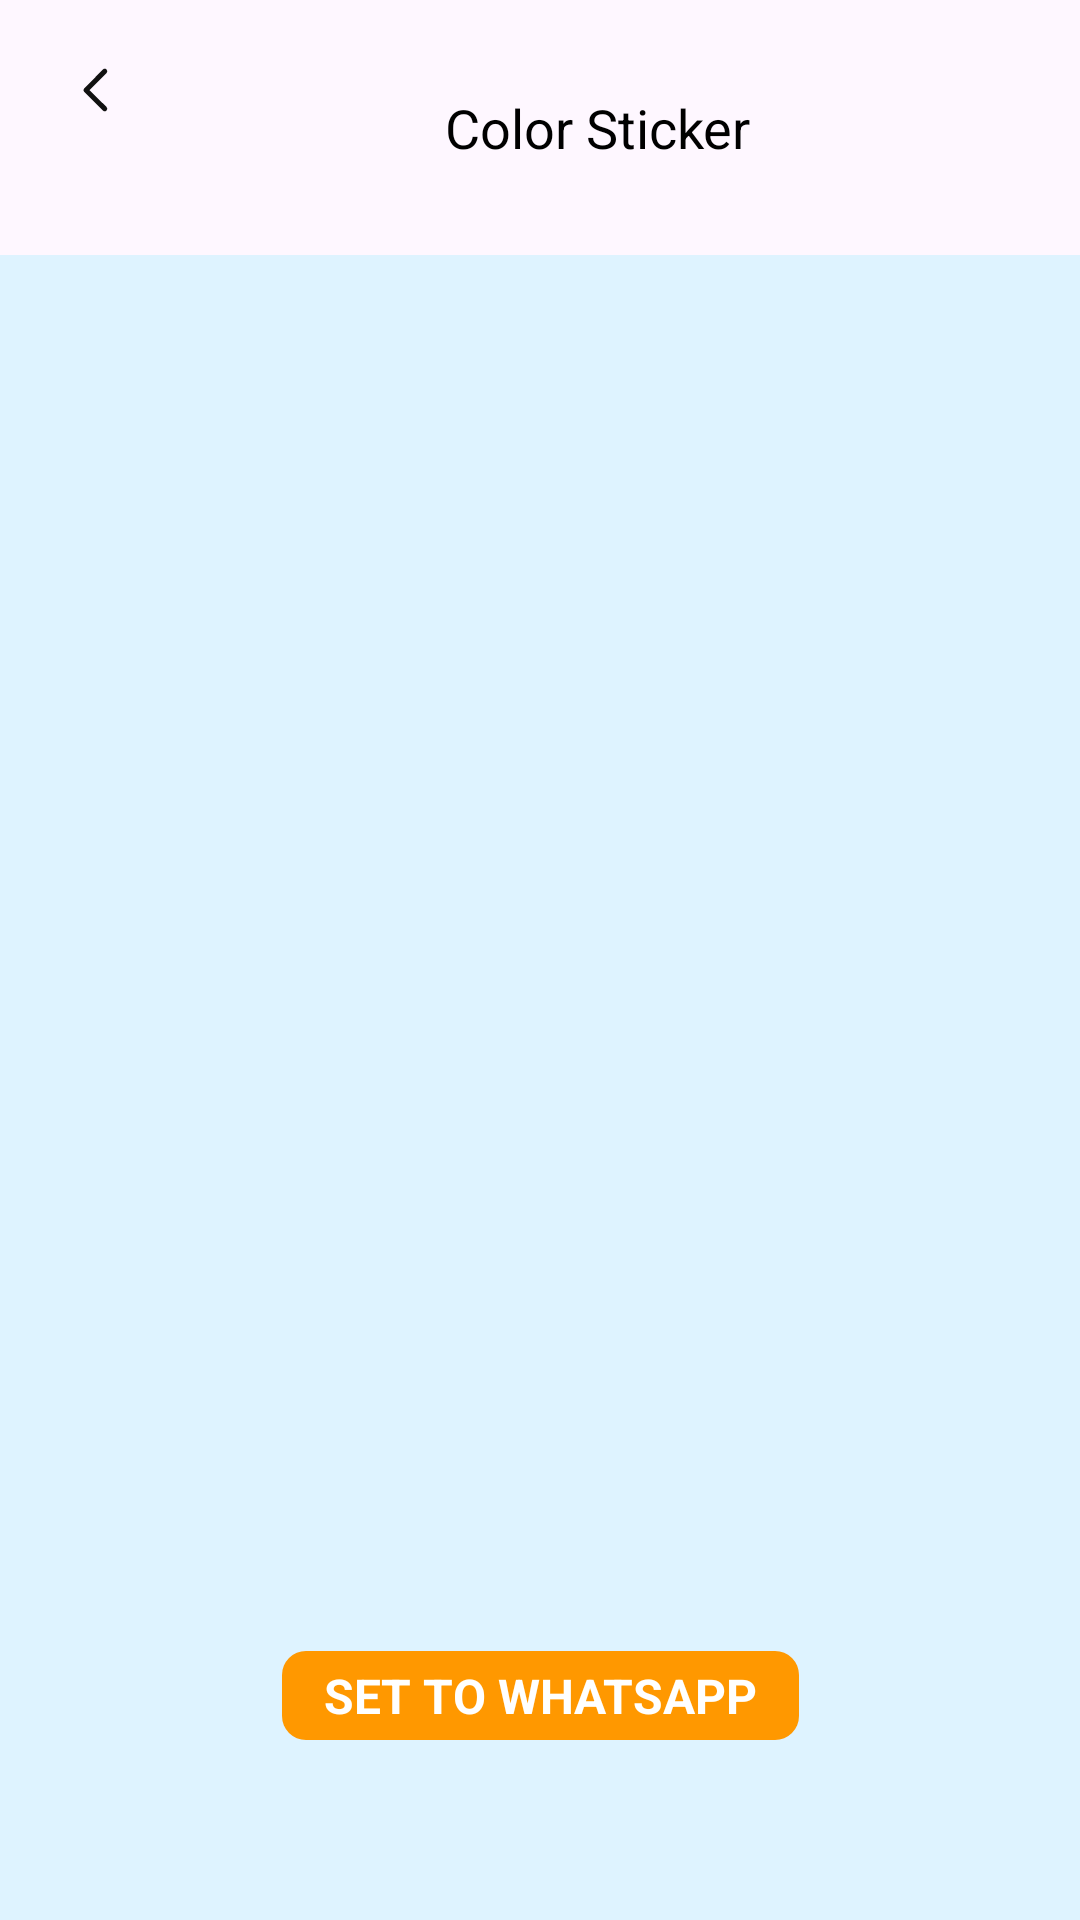

Point at icon controls on the screen. Image size 1080px x 1920px, points as point (x, y).
back: point (95, 90)
